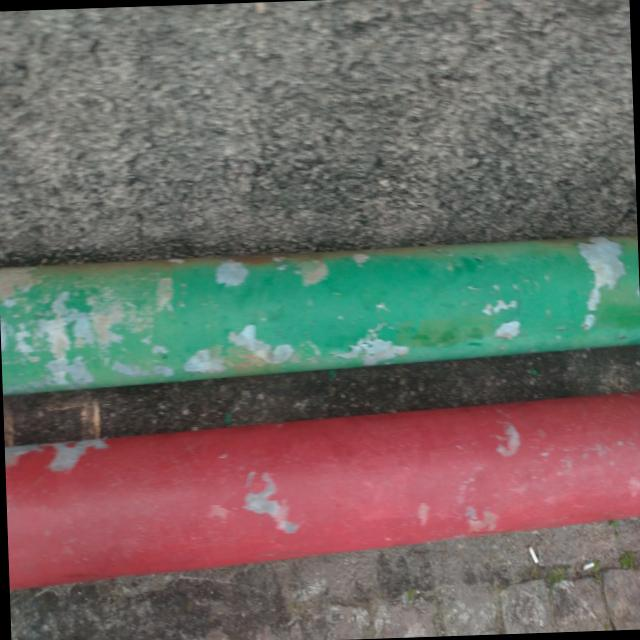gas: (4, 391, 640, 591), (0, 235, 640, 398)
